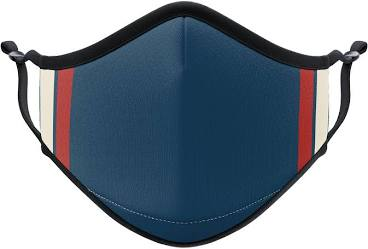FaceMask: (2, 1, 367, 248)
